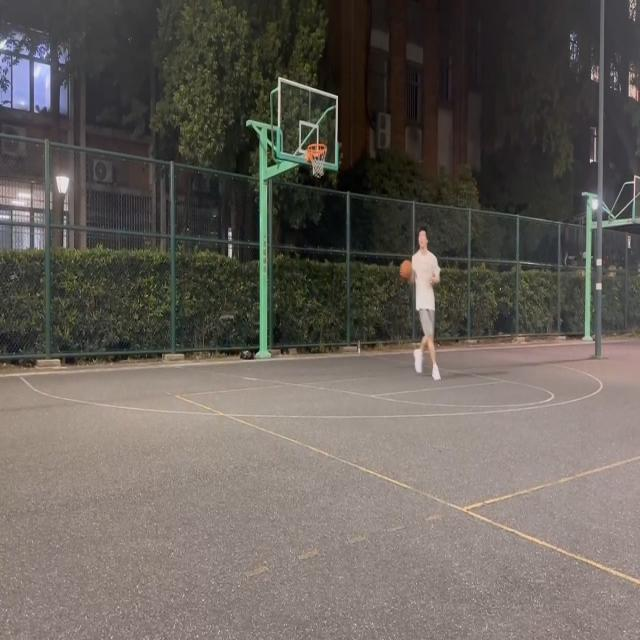basketball: (307, 143, 327, 179)
rim: (400, 260, 412, 279)
